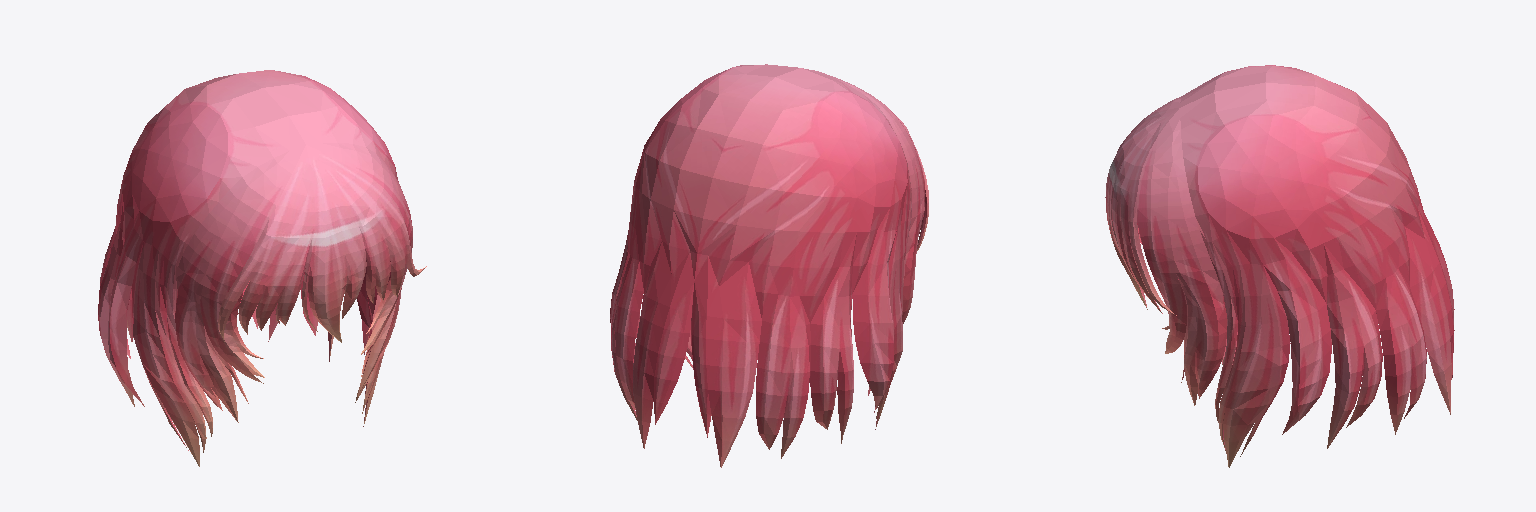
3 renders of one model, left to right at view 1: azimuth 30°, elevation 25°; view 2: azimuth 150°, elevation 25°; view 3: azimuth 270°, elevation 25°, orthographic.
Size of the model in its own units: 0.26 by 0.3159 by 0.288.
1 materials, 1 textured.